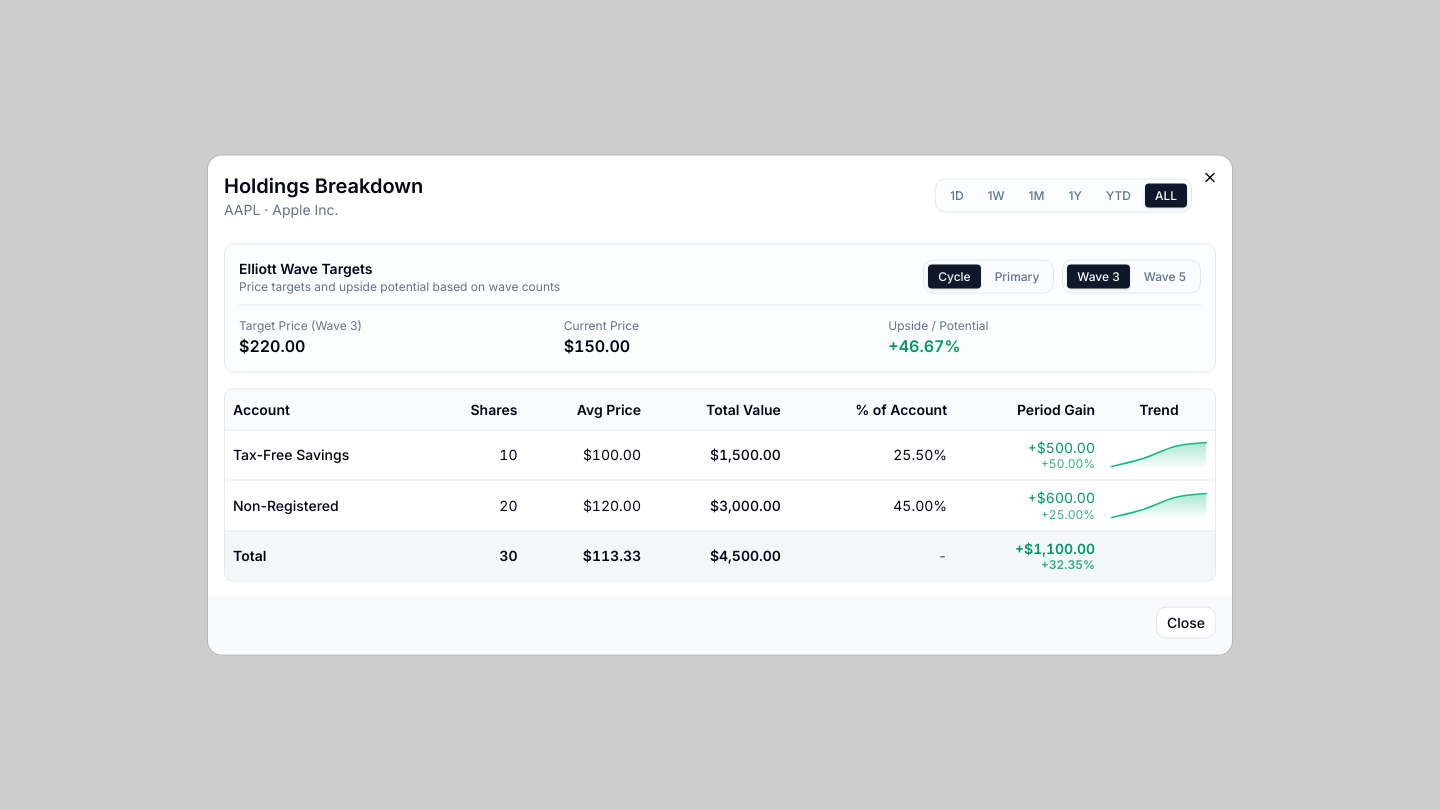
Test: HoldingsModal Component › Elliott Wave Targets panel › updates target price and upside % when switching degrees
Expected: the text with test id "wave-target-price" reads "$220.00", [239, 336, 306, 356]
Click the button "Primary" at {"x": 1017, "y": 276}, box [985, 264, 1049, 288]
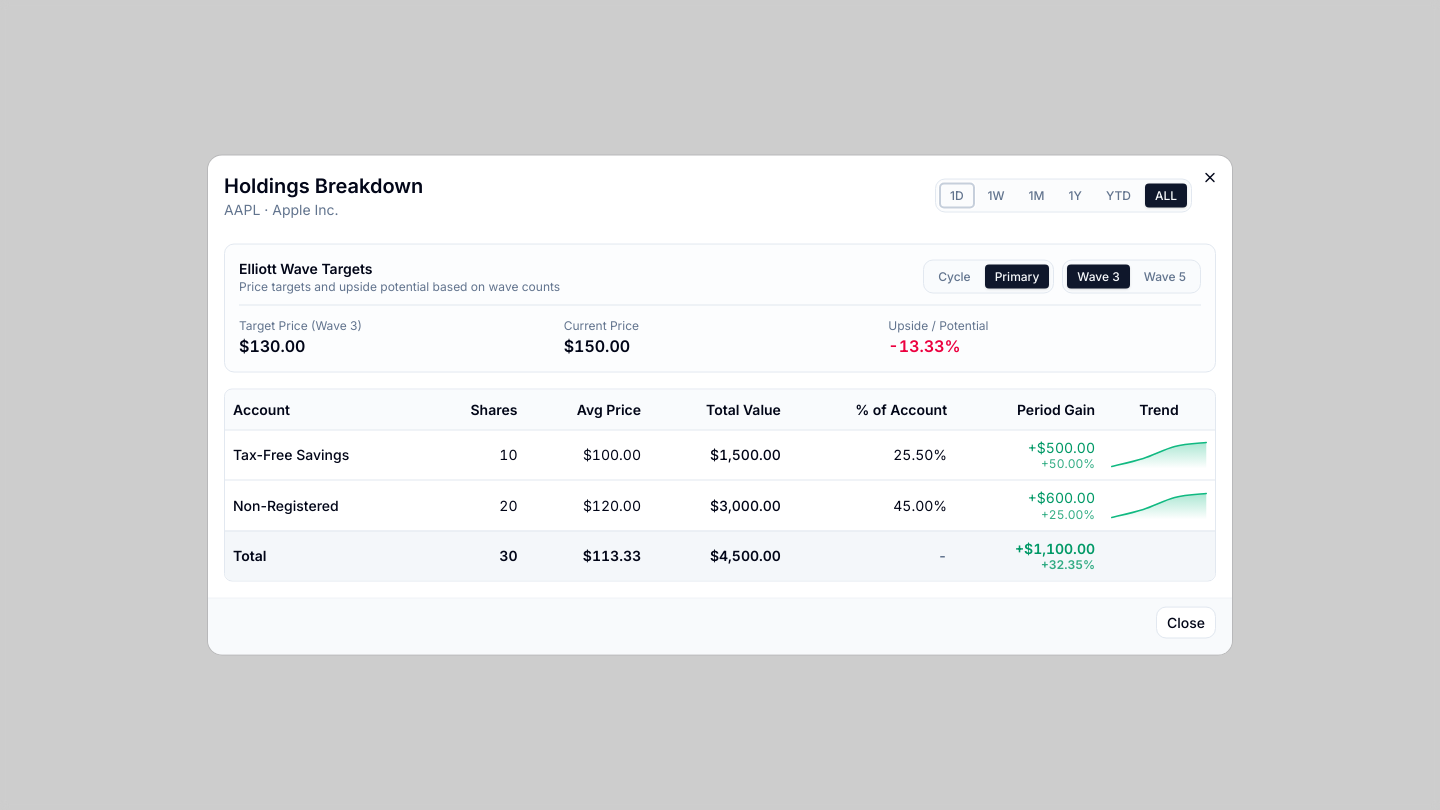
Now the text with test id "wave-target-price" reads "$130.00", box [239, 336, 306, 356]
Now the element with test id "wave-upside-percent" reads "-13.33%", box [888, 336, 960, 356]
# Switch back to Cycle degree
Click the button "Cycle" at {"x": 954, "y": 276}, box [928, 264, 981, 288]
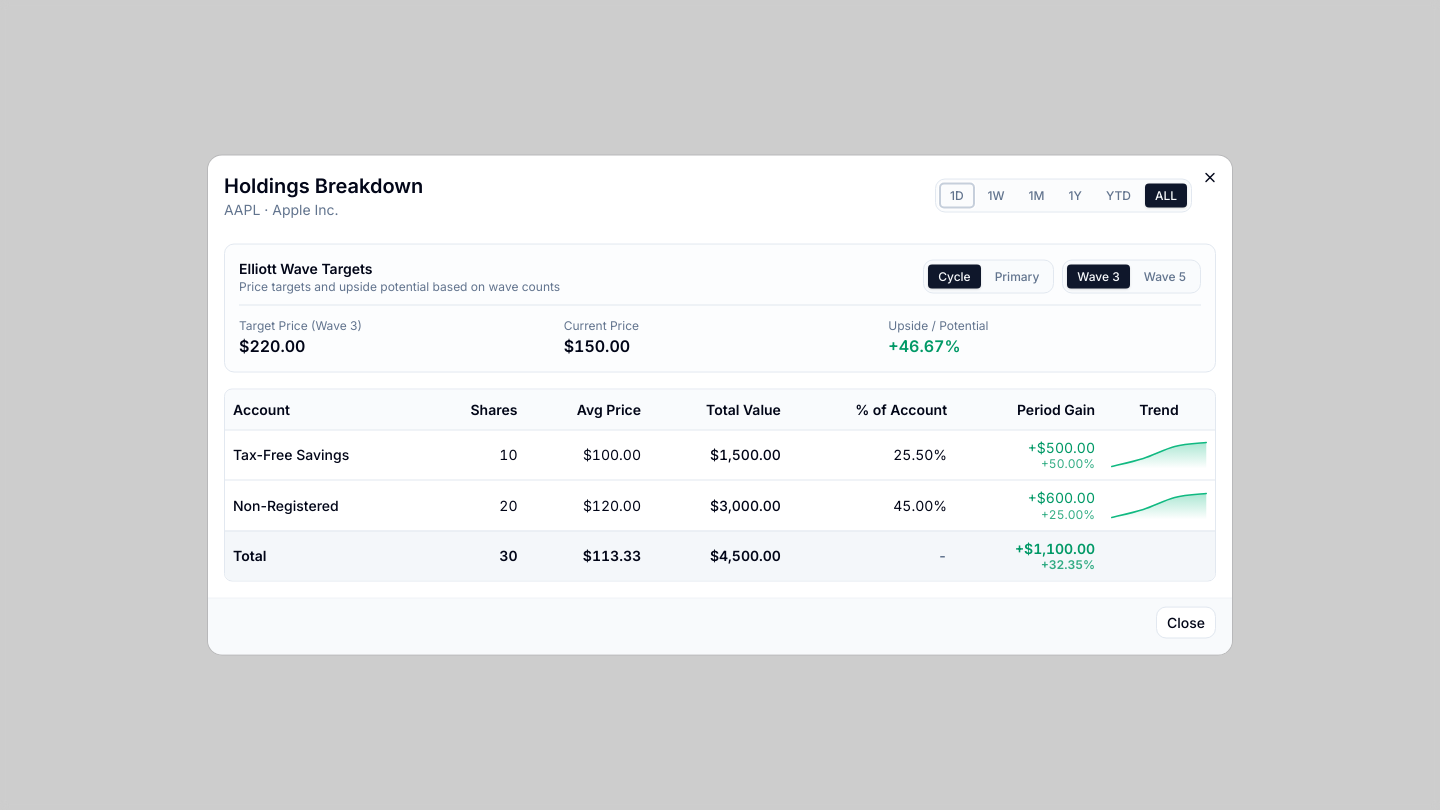
Now the text with test id "wave-target-price" reads "$220.00", box [239, 336, 306, 356]
Now the element with test id "wave-upside-percent" reads "+46.67%", box [888, 336, 960, 356]
